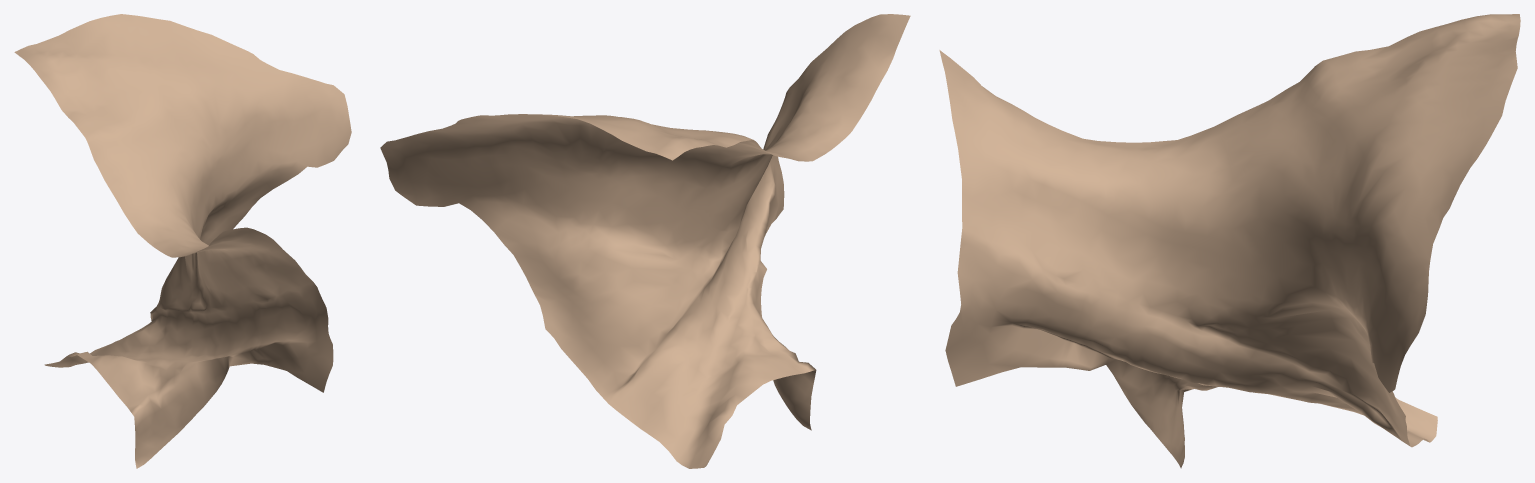
The picture shows the model from 3 angles, left to right: view 1: azimuth 30°, elevation 25°; view 2: azimuth 150°, elevation 25°; view 3: azimuth 270°, elevation 25°; orthographic projection. The views are drawn at different scales.
Visible parts, largest first — view 1: 左侧颈筋膜浅层; view 2: 左侧颈筋膜浅层; view 3: 左侧颈筋膜浅层.
Part boxes in pixels (<box>): 左侧颈筋膜浅层: <box>14,14,351,468</box>; 左侧颈筋膜浅层: <box>380,14,910,468</box>; 左侧颈筋膜浅层: <box>939,14,1520,468</box>.
Bounding box in the file's own units: 0.2597 × 0.2855 × 0.3176.
